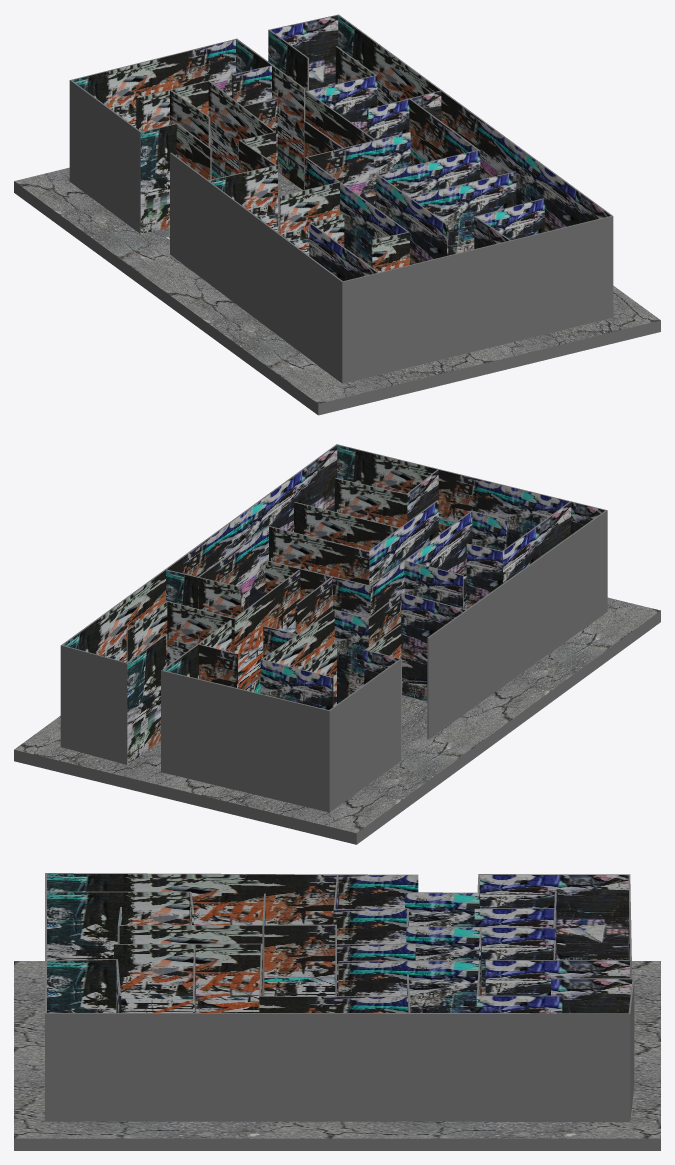
The model's file is Lab4.fbx.
The picture shows the model from 3 angles, top to bottom: view 1: azimuth 30°, elevation 25°; view 2: azimuth 150°, elevation 25°; view 3: azimuth 270°, elevation 25°; orthographic projection. The views are drawn at different scales.
Visible parts, largest first — view 1: ParedExterior018, Wall003, ParedExterior019, ParedExterior017, Pared159, Pared158, Pared152, Pared157, Pared143, Pared160, Pared139, Pared165 (+24 smaller); view 2: Wall003, ParedExterior019, Pared158, ParedExterior017, ParedExterior018, Pared159, ParedExterior016, Pared144, Pared155, Pared150, Pared162, Pared139 (+25 smaller); view 3: ParedExterior017, Wall003, ParedExterior019, Pared151, Pared159, Pared139, Pared142, Pared144, Pared165, Pared157, Pared154, Pared155 (+7 smaller).
Boxes of the visible parts, x1,y1,x2,y2 form: ParedExterior018: [342, 216, 613, 383]; Wall003: [14, 167, 660, 415]; ParedExterior019: [170, 152, 342, 383]; ParedExterior017: [338, 14, 612, 231]; Pared159: [69, 80, 140, 233]; Pared158: [70, 39, 235, 127]; Pared152: [410, 171, 516, 255]; Pared157: [235, 38, 305, 190]; Pared143: [305, 132, 410, 207]; Pared160: [140, 123, 176, 233]; Pared139: [304, 157, 409, 266]; Pared165: [208, 80, 275, 179]; Wall003: [14, 597, 660, 844]; ParedExterior019: [427, 510, 607, 739]; Pared158: [161, 670, 329, 812]; ParedExterior017: [61, 444, 337, 662]; ParedExterior018: [337, 444, 606, 547]; Pared159: [329, 659, 401, 812]; ParedExterior016: [60, 645, 127, 764]; Pared144: [234, 569, 300, 693]; Pared155: [127, 634, 166, 764]; Pared150: [268, 526, 369, 584]; Pared162: [401, 592, 465, 701]; Pared139: [370, 510, 472, 615]; ParedExterior017: [45, 1013, 630, 1121]; Wall003: [14, 961, 660, 1150]; ParedExterior019: [45, 873, 418, 924]; Pared151: [114, 943, 261, 1012]; Pared159: [479, 874, 629, 959]; Pared139: [117, 924, 336, 996]; Pared142: [47, 891, 190, 960]; Pared144: [338, 960, 479, 1012]; Pared165: [406, 926, 555, 995]; Pared157: [485, 960, 630, 995]; Pared154: [47, 959, 116, 1012]; Pared155: [551, 978, 633, 1013].
Size of the model in its own units: 312 by 98.76 by 480.
